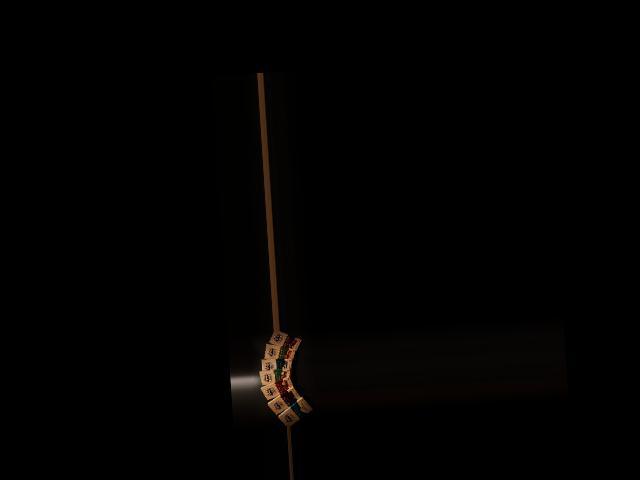chocolate: (275, 395, 316, 426)
